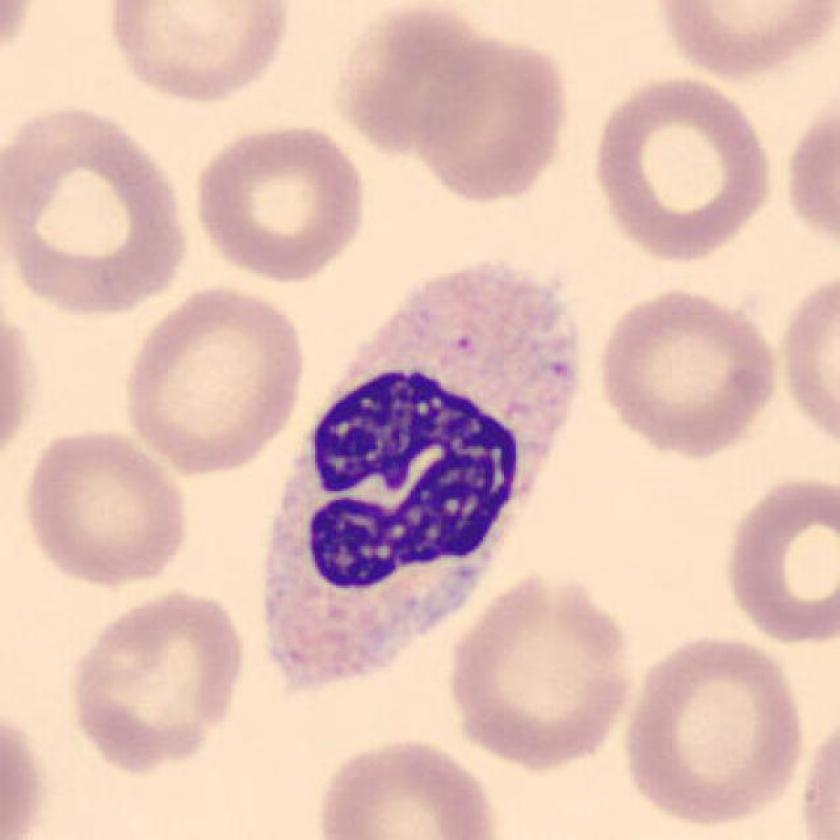neutrophil: (266, 266, 581, 689)
